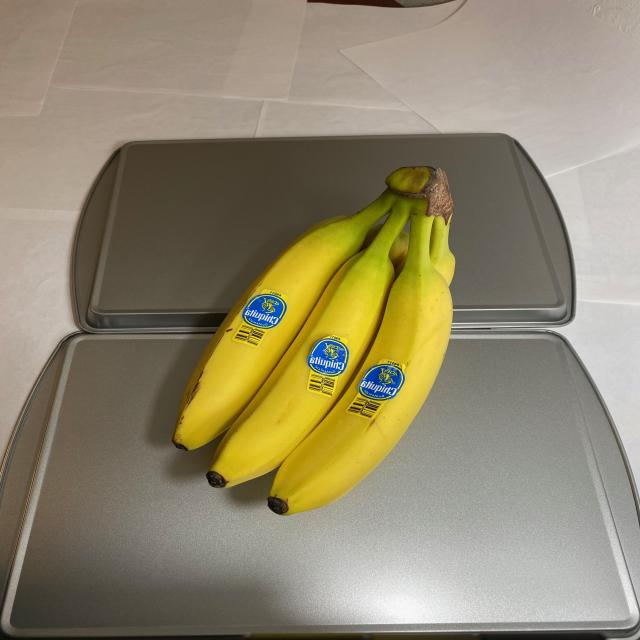Banana: (170, 163, 466, 523)
